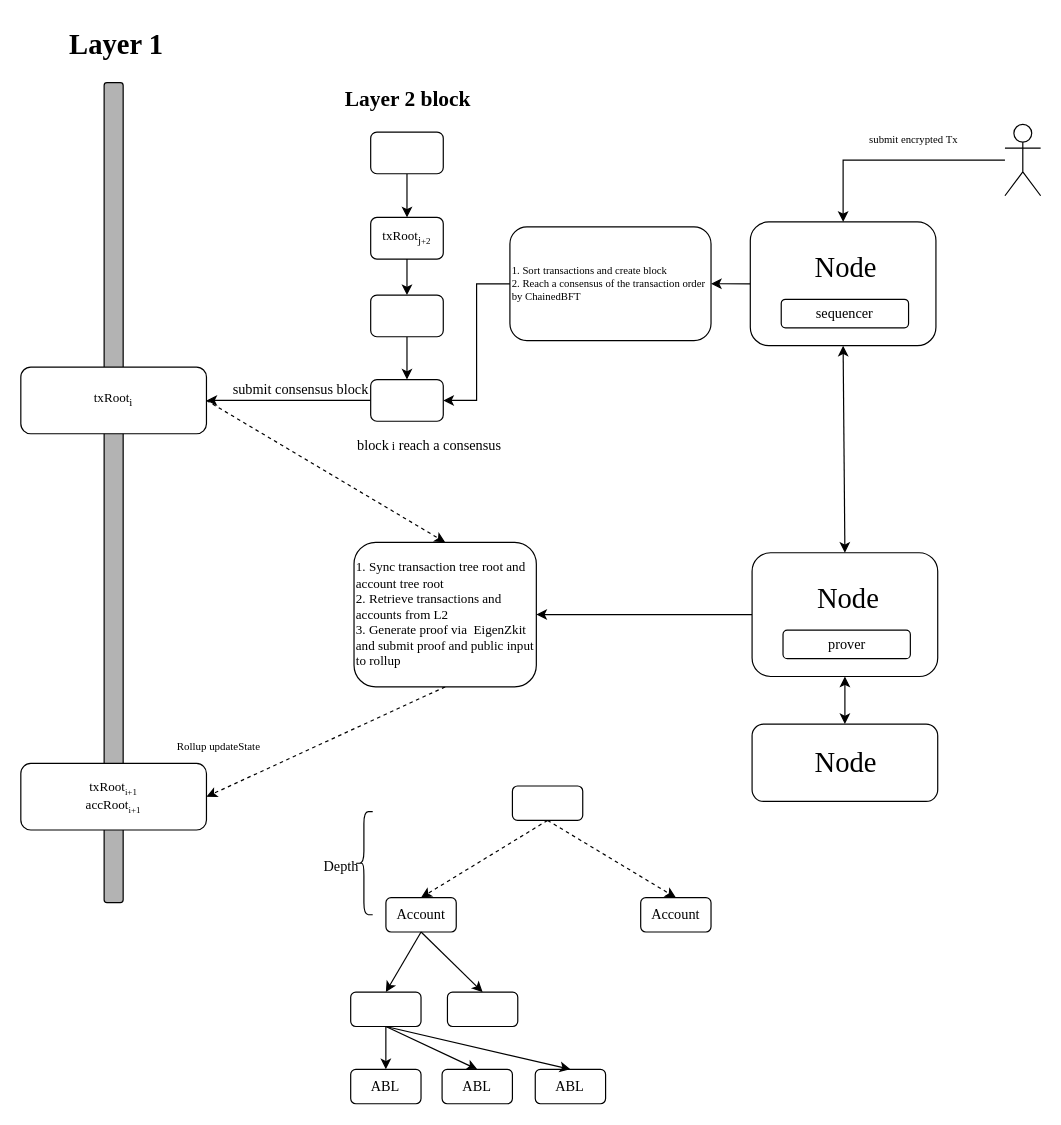
This 1061x1125 diagram has some shape labels left out. The shapes that lost their labels are listed below. From the top down, each one's centre as x and y in pixels, then its label:
At point 406,152: "txRoot j+3".
At point 1022,159: "Actor".
At point 406,315: "txRoot j +1".
At point 406,399: "txRoot j".
At point 547,802: "accRoot".
At point 385,1008: "Token1 Balance".
At point 482,1008: "Token2 Balance".
